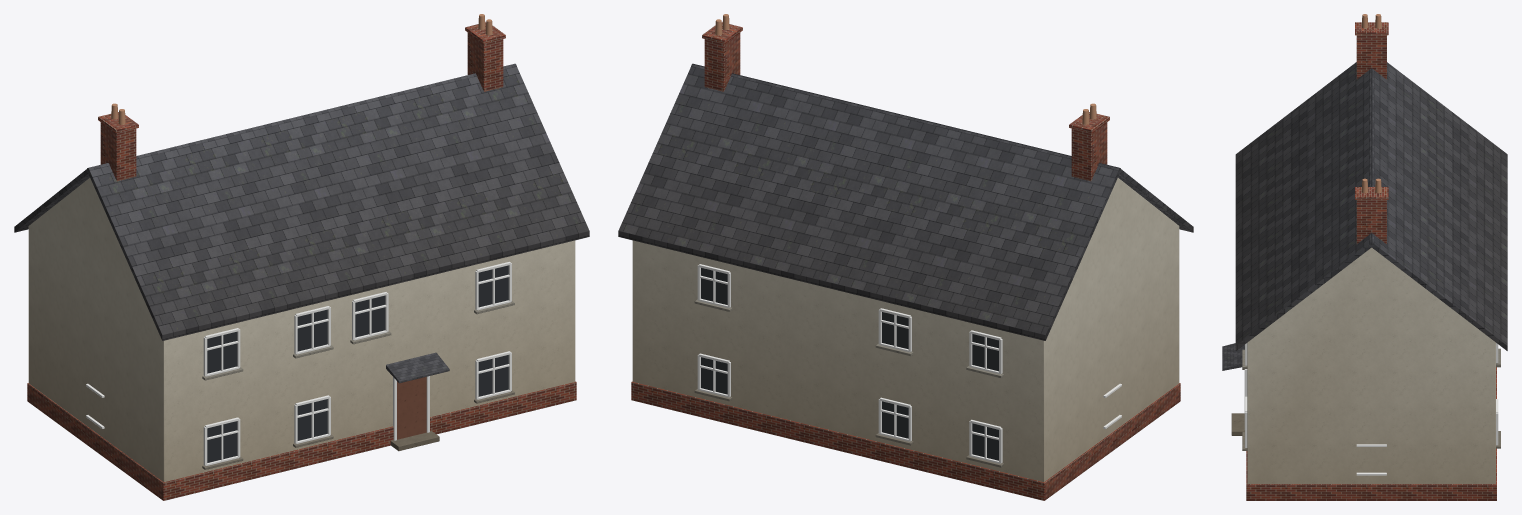
Rendered from prop_house_pub.glb.
3 renders of one model, left to right at view 1: azimuth 30°, elevation 25°; view 2: azimuth 150°, elevation 25°; view 3: azimuth 270°, elevation 25°, orthographic. The views are drawn at different scales.
Parts seen in each view (by area): view 1: Roof, Walls, Plinth, Glass, Frames, Chimney, Sills, Door, Ridge, Canopy; view 2: Roof, Walls, Plinth, Glass, Chimney, Frames, Ridge, Sills; view 3: Roof, Walls, Plinth, Chimney, Frames, Ridge, Sills, Canopy, Pots.
Boxes of the visible parts, x1,y1,x2,y2 form: Roof: (14,63,589,340); Walls: (28,178,575,482); Plinth: (27,381,576,500); Glass: (207,265,508,462); Frames: (86,261,511,465); Chimney: (98,22,505,181); Sills: (202,301,514,469); Door: (397,377,426,439); Ridge: (86,64,516,173); Canopy: (386,352,449,383); Roof: (618,63,1193,340); Walls: (632,178,1179,482); Plinth: (631,381,1180,500); Glass: (701,268,998,460); Chimney: (702,22,1109,181); Frames: (697,264,1121,463); Ridge: (691,64,1121,173); Sills: (694,299,1003,467); Roof: (1235,62,1507,350); Walls: (1247,247,1495,483); Plinth: (1246,367,1496,500); Chimney: (1355,22,1388,244); Frames: (1244,343,1498,475); Ridge: (1369,68,1374,247); Sills: (1231,348,1500,450); Canopy: (1222,343,1244,370); Pots: (1361,14,1381,193).
Bounding box in the file's own units: 13.5 × 10.21 × 8.5.
8 materials, 5 textured.
